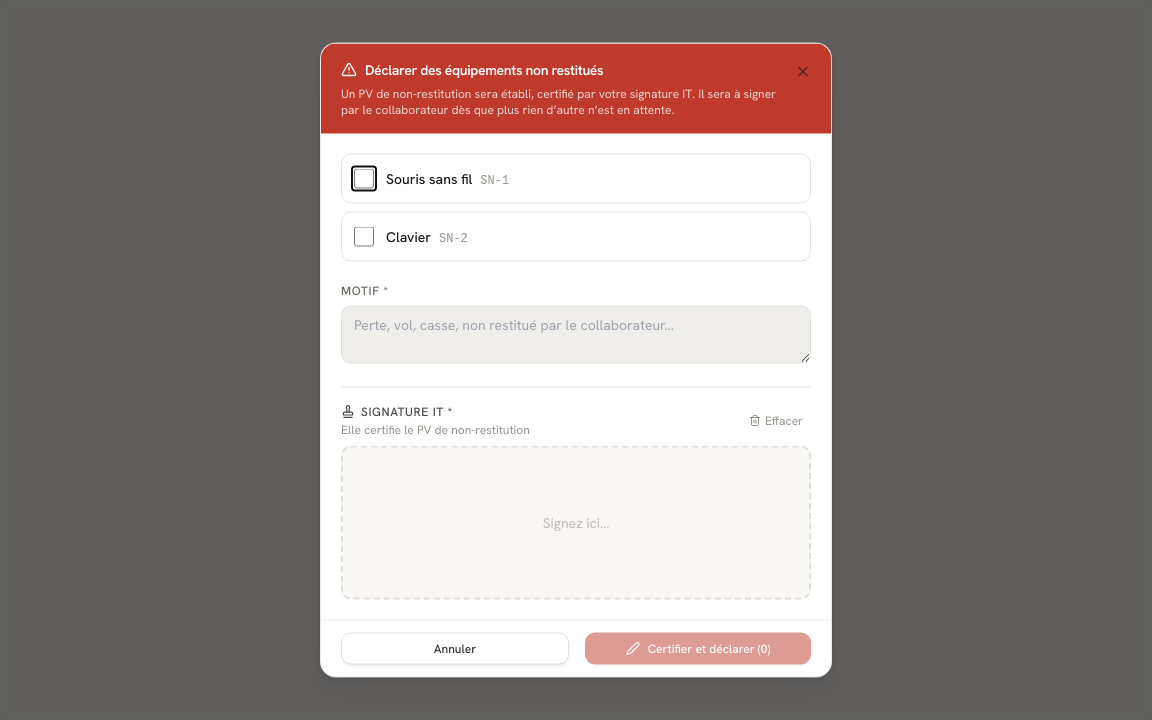
Test: DeclareNotReturnedModal › refuse la soumission sans signature IT
Click the 1st checkbox at (364, 178), box [354,168,374,188]
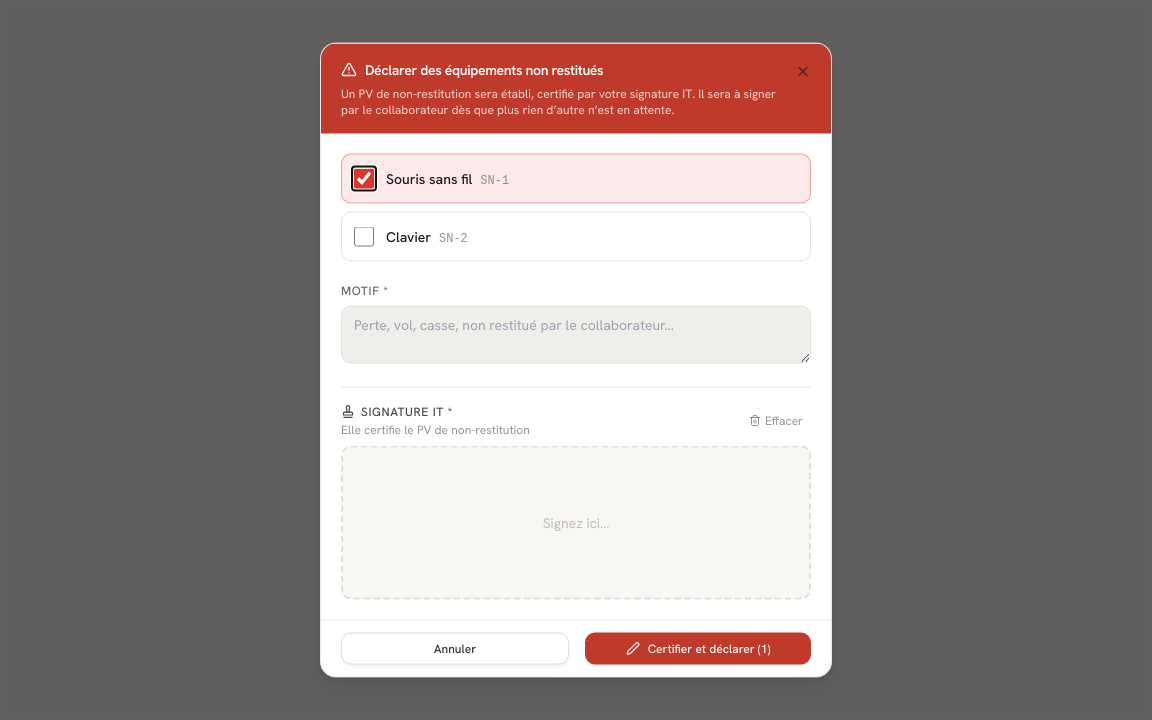
Type "Perdu" into the text box with placeholder "Perte, vol, casse, non restitué par le collaborateur…" at (576, 334), box [341,306,811,364]
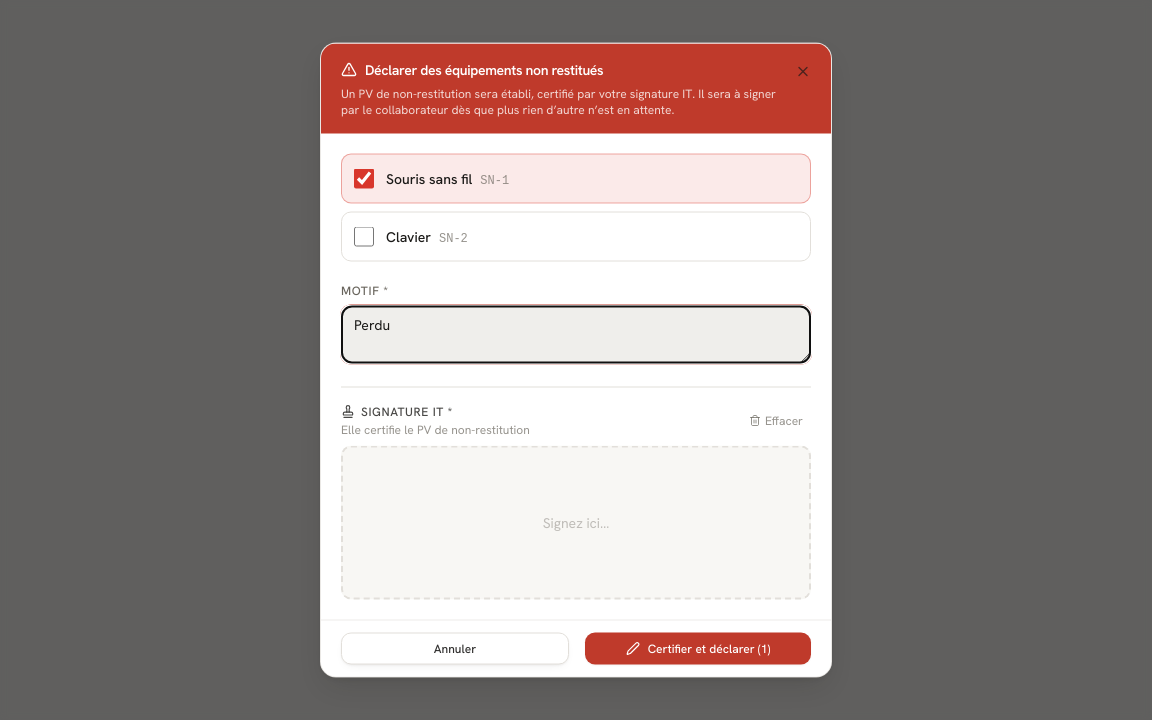
Click the button "Certifier et déclarer (1)" at (698, 648), box [585,632,811,664]
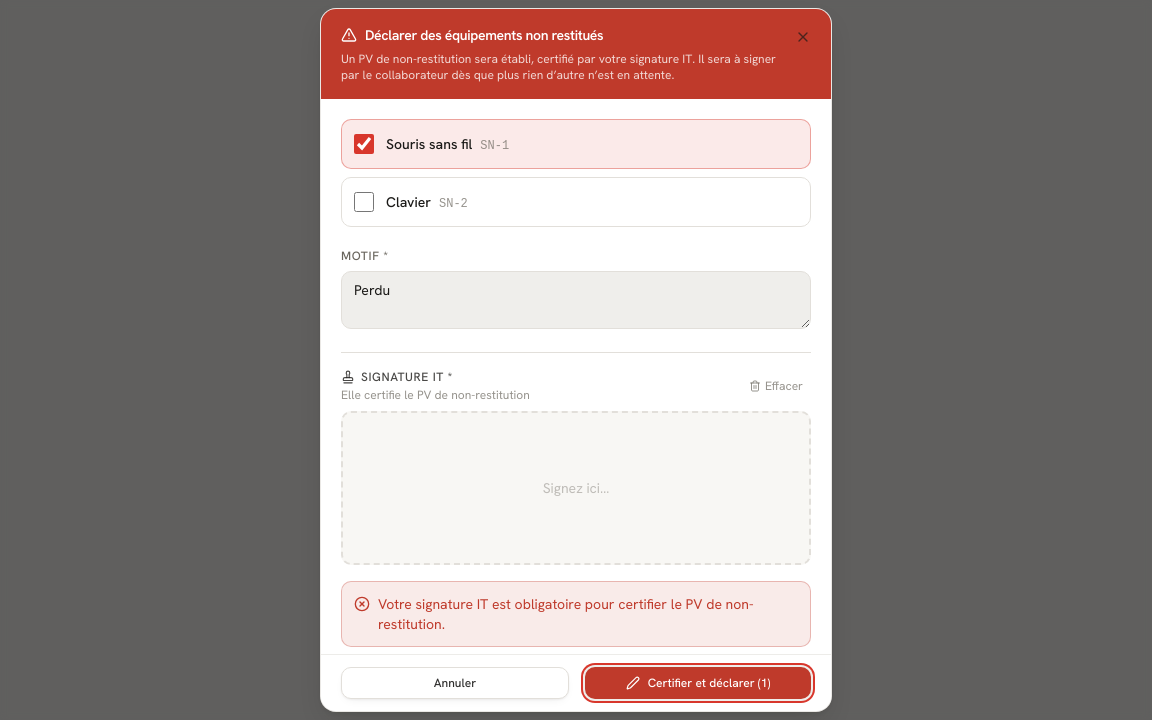
Expected: the text "signature IT est obligatoire" is shown, [378,595,754,633]
